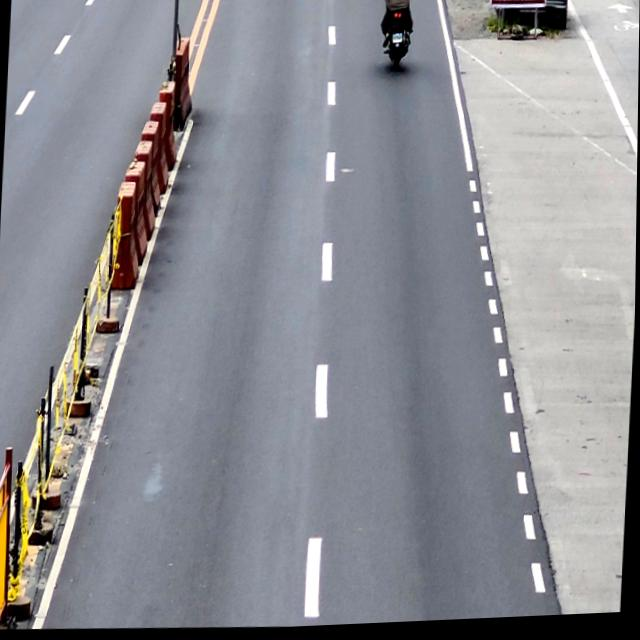License-Plate: (392, 35, 403, 46)
Motorcycle: (379, 0, 412, 77)
